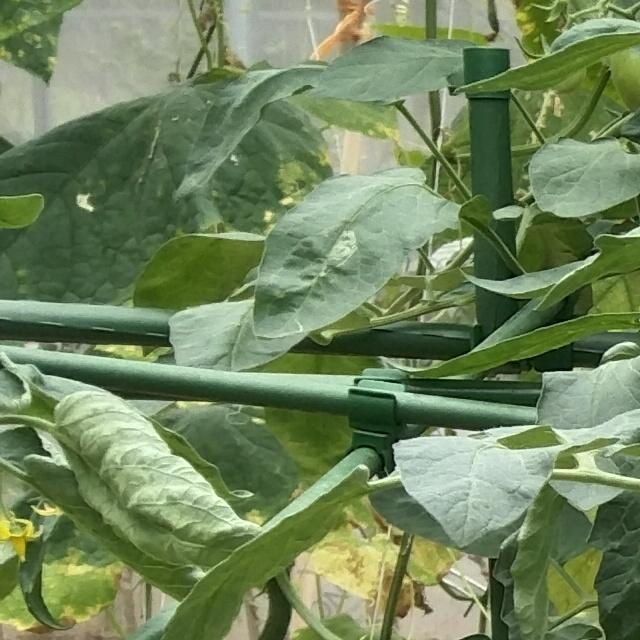Healthy: (390, 434, 575, 549), (316, 31, 463, 106), (528, 137, 640, 221)
Leaf_Miner: (244, 166, 465, 344)
